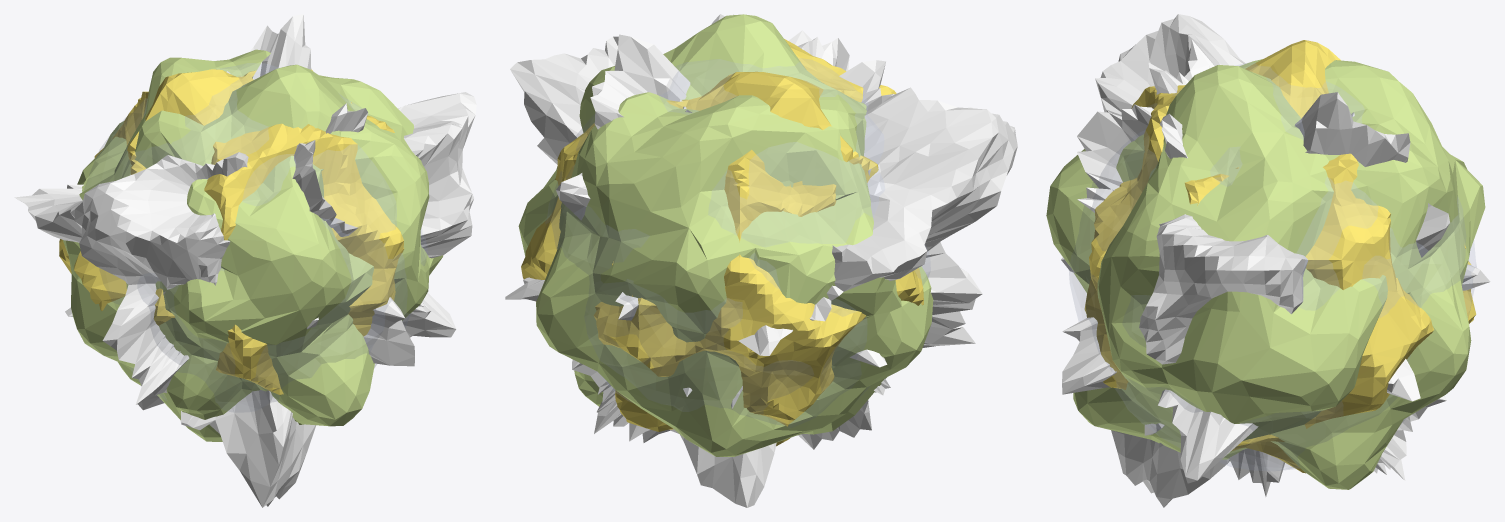
The model's file is planet.glb.
3 views of the same model, side by side, from view 1: azimuth 30°, elevation 25°; view 2: azimuth 150°, elevation 25°; view 3: azimuth 270°, elevation 25° (orthographic). The views are drawn at different scales.
Parts seen in each view (by area): view 1: planet-Land, planet-Mountains, planet-Ocean, planet-Sand; view 2: planet-Land, planet-Mountains, planet-Ocean, planet-Sand; view 3: planet-Land, planet-Mountains, planet-Ocean, planet-Sand.
Boxes of the visible parts, x1,y1,x2,y2 form: planet-Land: (63, 49, 443, 441); planet-Mountains: (14, 14, 476, 507); planet-Ocean: (84, 63, 427, 411); planet-Sand: (59, 69, 404, 395); planet-Land: (518, 14, 933, 456); planet-Mountains: (505, 14, 1017, 507); planet-Ocean: (545, 58, 930, 427); planet-Sand: (521, 39, 923, 446); planet-Land: (1046, 59, 1485, 489); planet-Mountains: (1061, 14, 1490, 507); planet-Ocean: (1069, 63, 1476, 470); planet-Sand: (1084, 40, 1476, 473).
Bounding box in the file's own units: 1354 × 1264 × 1092.
